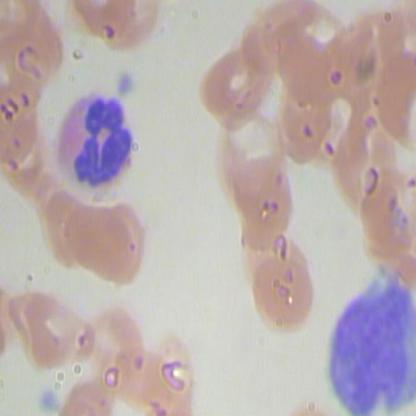Platelets: (115, 66, 137, 100), (40, 382, 62, 415)
RBC: (330, 109, 405, 212), (11, 286, 94, 371), (20, 180, 103, 265), (192, 40, 275, 125), (70, 299, 152, 384), (56, 193, 138, 278), (239, 248, 321, 333), (225, 152, 307, 237), (271, 73, 332, 163), (3, 1, 64, 90), (367, 42, 415, 145), (1, 84, 50, 173)
WBC: (324, 263, 415, 415), (49, 92, 141, 198)
